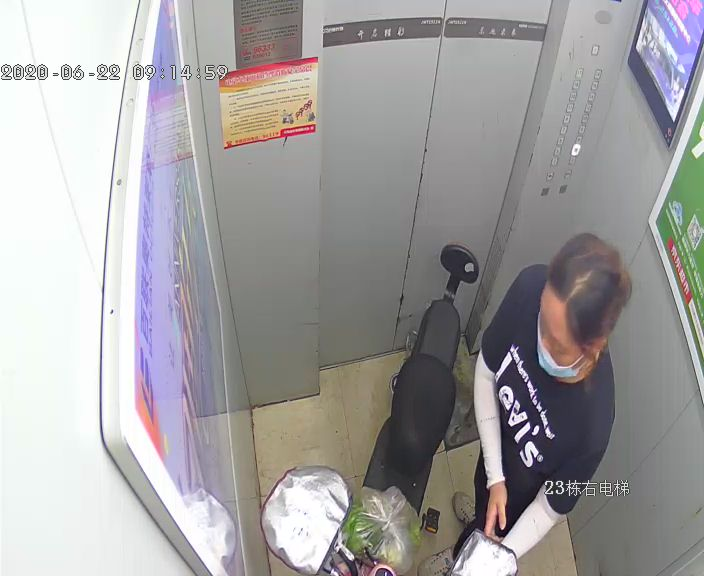Electric-bicycle: (261, 241, 483, 576)
